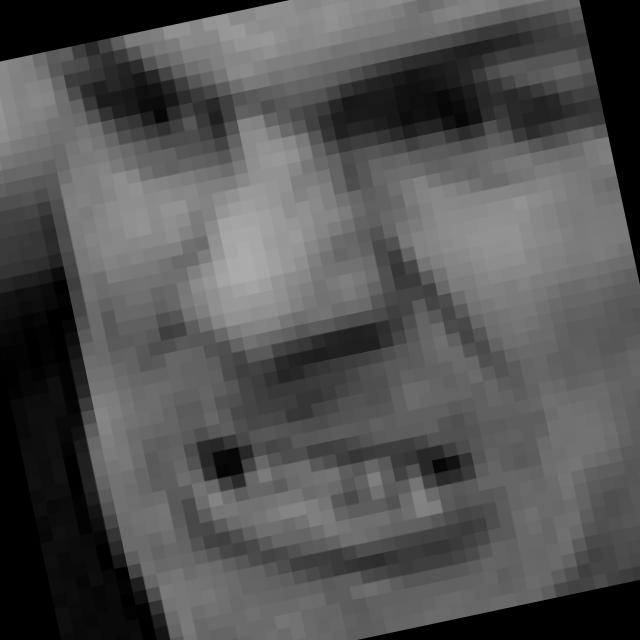angry: (51, 0, 640, 617)
